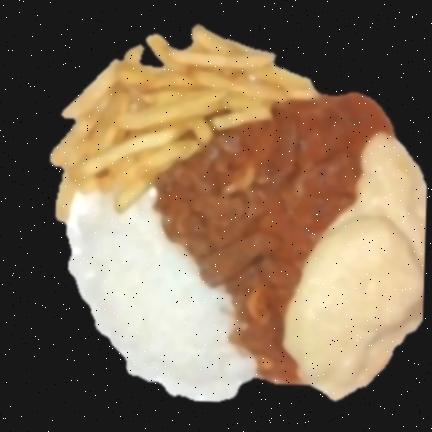potato: (53, 26, 316, 218), (284, 133, 427, 400)
rice: (67, 190, 256, 401)
